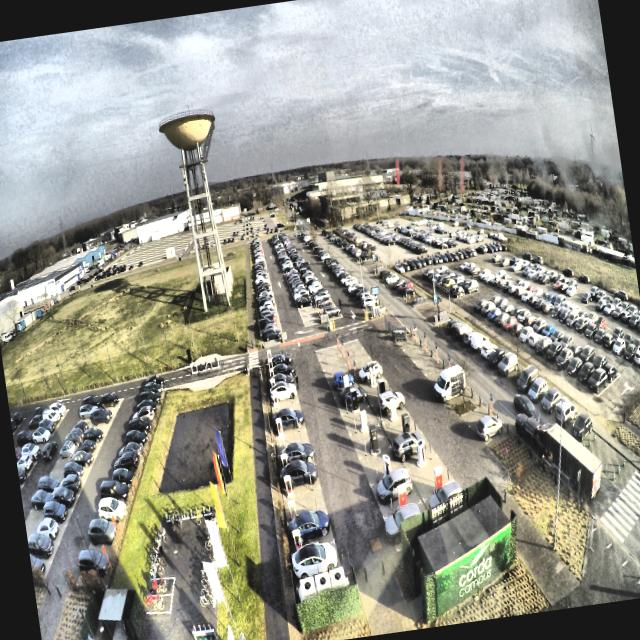cabinet: (300, 566, 346, 595)
car: (291, 542, 339, 582), (286, 505, 329, 549), (272, 407, 306, 437), (281, 461, 318, 488), (280, 442, 316, 468), (270, 381, 297, 403), (267, 373, 295, 387), (270, 353, 294, 369), (269, 364, 296, 378)
parking: (292, 541, 342, 590), (288, 512, 334, 555), (284, 487, 327, 524), (281, 465, 321, 498), (278, 446, 315, 477), (276, 430, 310, 455), (274, 414, 305, 439), (272, 401, 302, 422), (270, 386, 298, 408), (269, 374, 295, 394), (267, 365, 292, 380), (266, 357, 290, 372)
supercharger: (292, 530, 304, 554), (288, 501, 298, 523), (278, 436, 287, 453), (284, 475, 293, 491), (281, 453, 289, 471), (276, 420, 284, 437), (272, 391, 280, 405), (274, 405, 281, 419), (270, 379, 277, 390), (267, 350, 272, 360), (268, 360, 273, 370), (269, 368, 274, 377)
